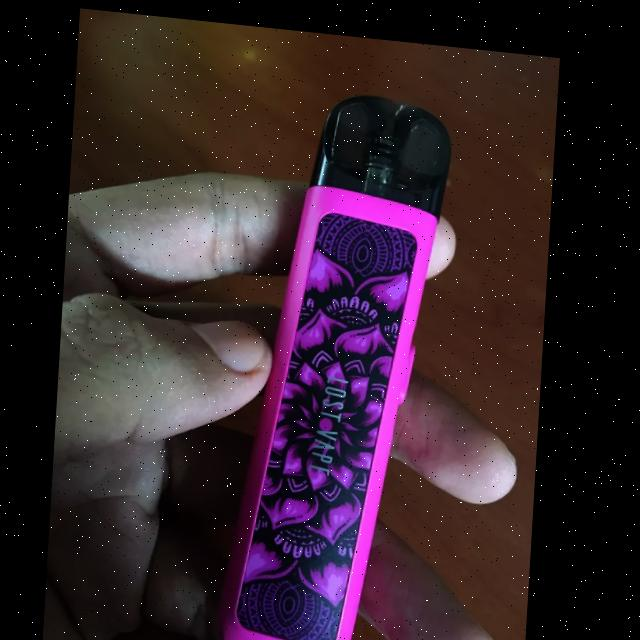vape: (223, 81, 458, 640)
